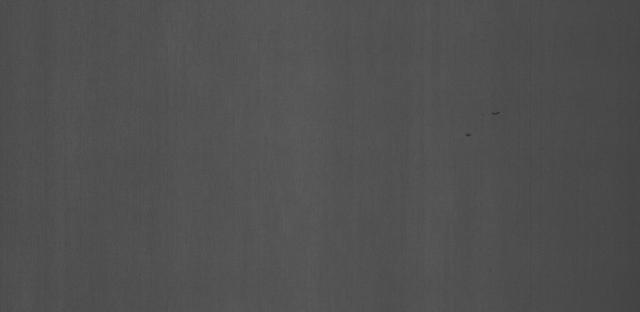inclusion: (455, 119, 482, 144), (492, 100, 510, 124)
